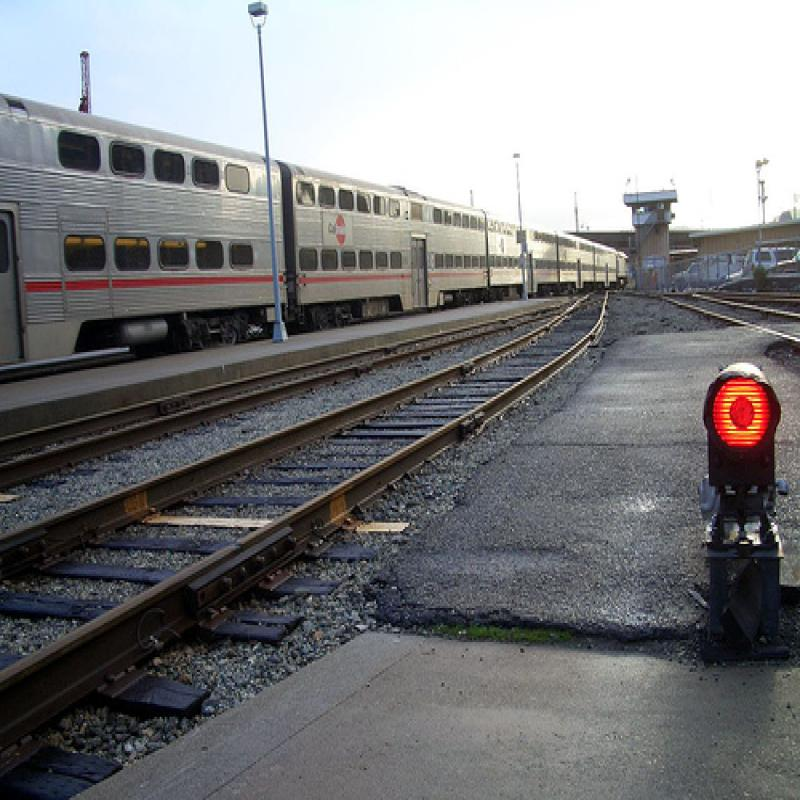train: (1, 95, 633, 366)
